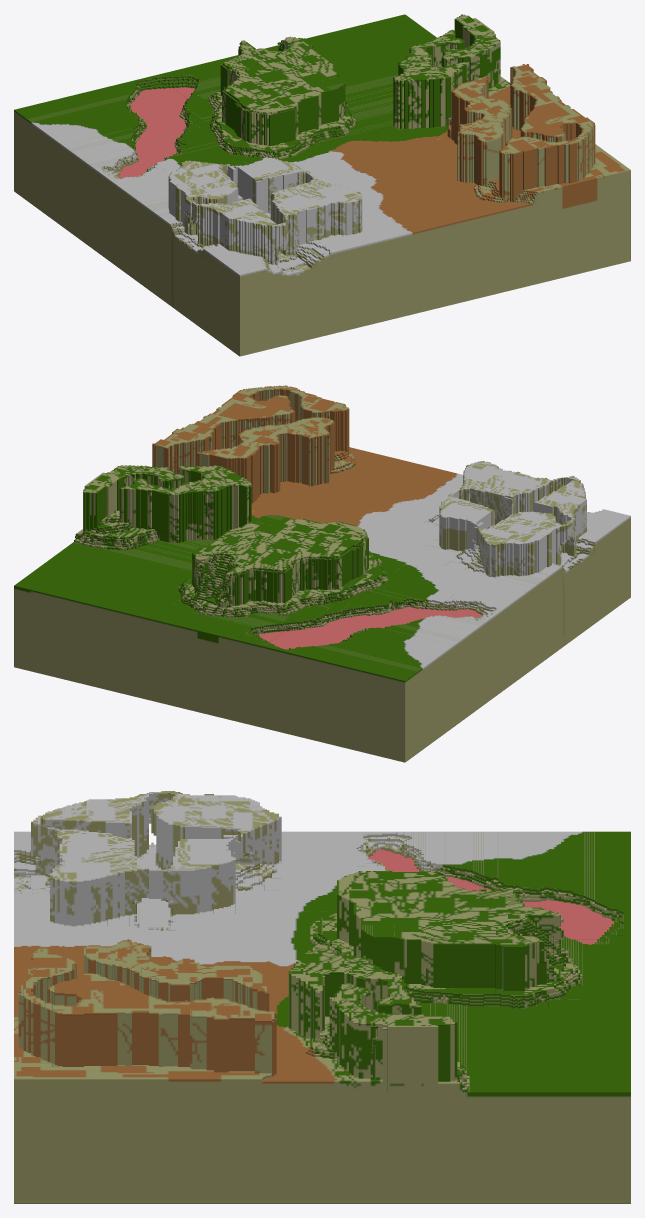
The model's file is scenery.dae.
The picture shows the model from 3 angles, top to bottom: view 1: azimuth 30°, elevation 25°; view 2: azimuth 150°, elevation 25°; view 3: azimuth 270°, elevation 25°; orthographic projection. The views are drawn at different scales.
Visible parts, largest first — view 1: Content; view 2: Content; view 3: Content.
Part boxes in pixels (box(x1,y1,x2,y2)): Content: box(14, 14, 630, 356); Content: box(14, 385, 630, 762); Content: box(14, 791, 630, 1203).
Bounding box in the file's own units: 256 × 81 × 256.
Materials: 1 (1 with a texture image).
